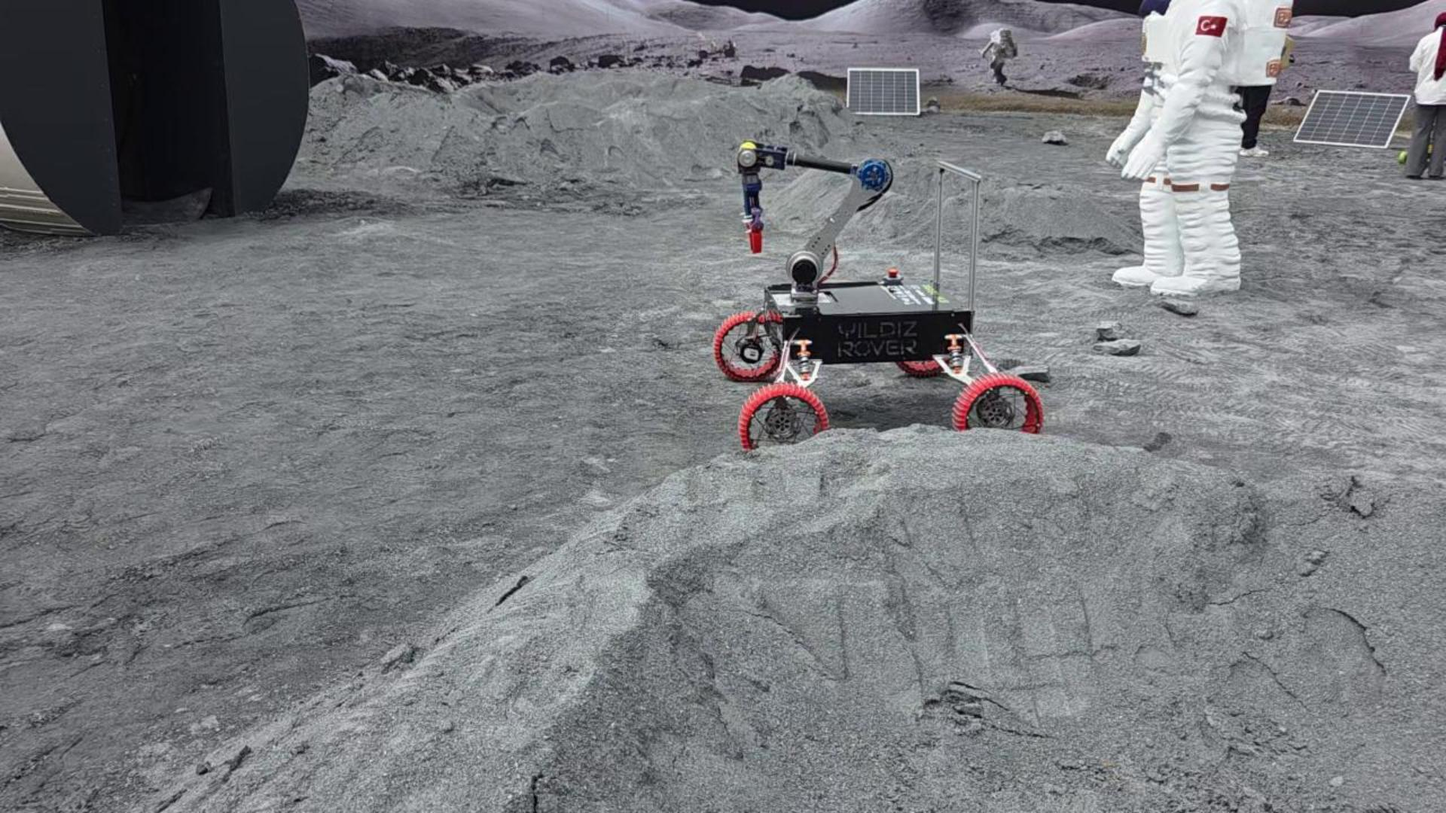rock: (1091, 339, 1140, 355), (1159, 299, 1197, 316), (1042, 130, 1068, 145), (1096, 326, 1118, 341)
